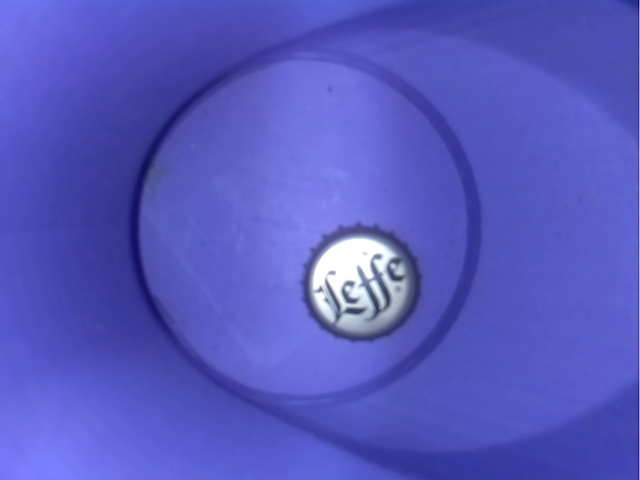capsule: (291, 210, 436, 349)
